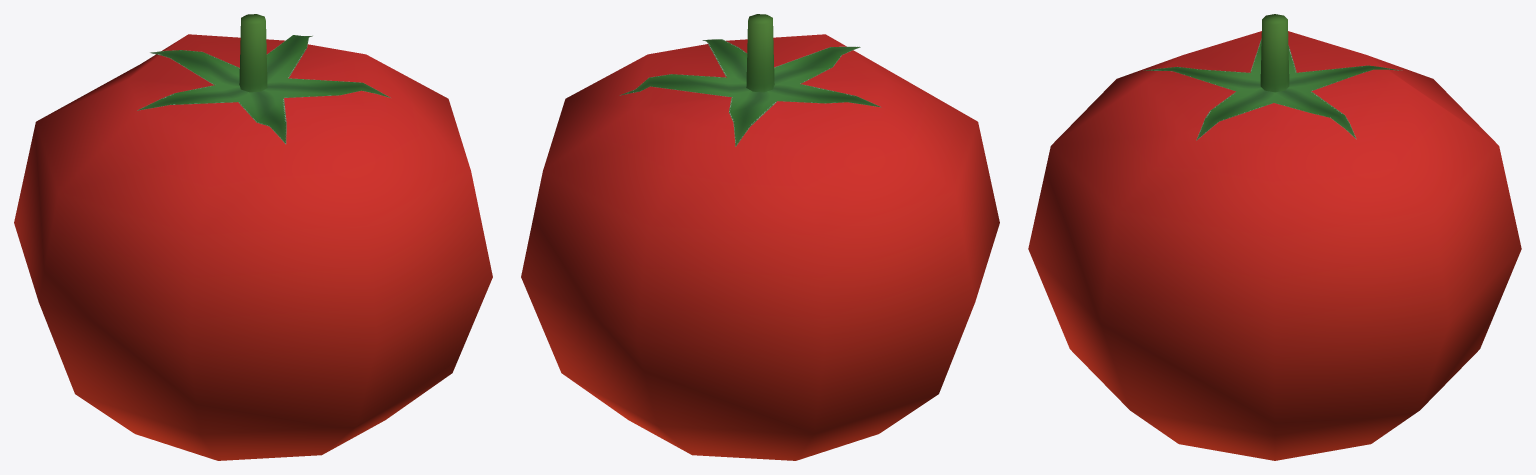
The model's file is Tomato.FBX.
3 renders of one model, left to right at view 1: azimuth 30°, elevation 25°; view 2: azimuth 150°, elevation 25°; view 3: azimuth 270°, elevation 25°, orthographic.
Parts seen in each view (by area): view 1: Tomato; view 2: Tomato; view 3: Tomato.
Part boxes in pixels (x1,y1,x2,y2): Tomato: (14,14,492,460); Tomato: (521,14,999,460); Tomato: (1028,14,1521,460).
Size of the model in its own units: 8 by 7.06 by 8.
Materials: 1 (1 with a texture image).
